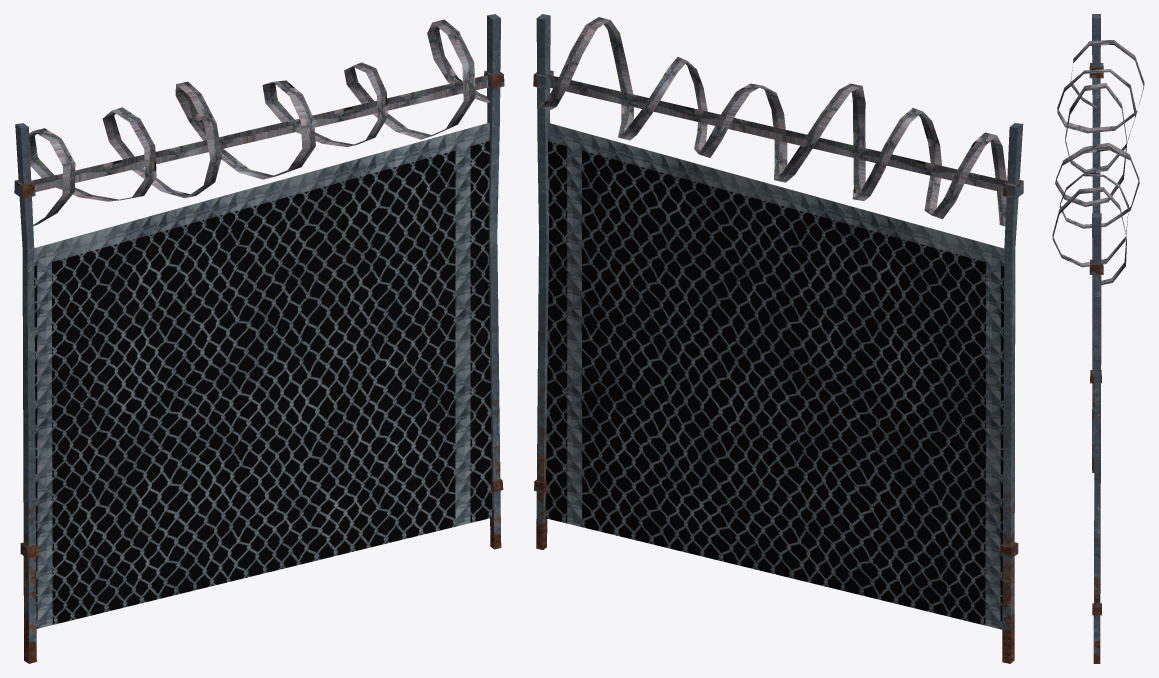
Rendered from fence.fbx.
3 renders of one model, left to right at view 1: azimuth 30°, elevation 25°; view 2: azimuth 150°, elevation 25°; view 3: azimuth 270°, elevation 25°, orthographic. The views are drawn at different scales.
Parts seen in each view (by area): view 1: Sketchfab Model; view 2: Sketchfab Model; view 3: Sketchfab Model.
Boxes of the visible parts, x1,y1,x2,y2 form: Sketchfab Model: (14,14,504,663); Sketchfab Model: (533,14,1023,663); Sketchfab Model: (1052,14,1144,663).
Size of the model in its own units: 251 by 267 by 49.39.
1 material, 1 textured.
